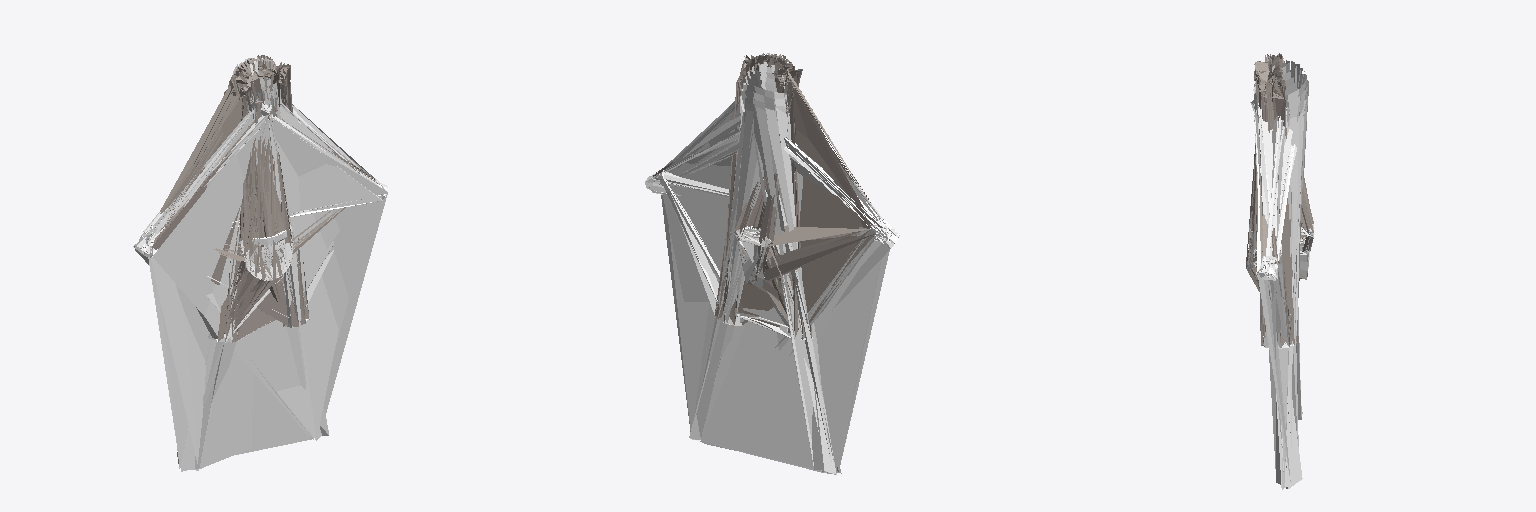
The picture shows the model from 3 angles: view 1: azimuth 30°, elevation 25°; view 2: azimuth 150°, elevation 25°; view 3: azimuth 270°, elevation 25°; orthographic projection.
Visible parts, largest first — view 1: sdef_FaBody; view 2: sdef_FaBody; view 3: sdef_FaBody.
Boxes of the visible parts, x1=… form: sdef_FaBody: x1=133, y1=55, x2=387, y2=471; sdef_FaBody: x1=645, y1=53, x2=899, y2=474; sdef_FaBody: x1=1246, y1=53, x2=1313, y2=489.
Size of the model in its own units: 230 by 352 by 54.76.